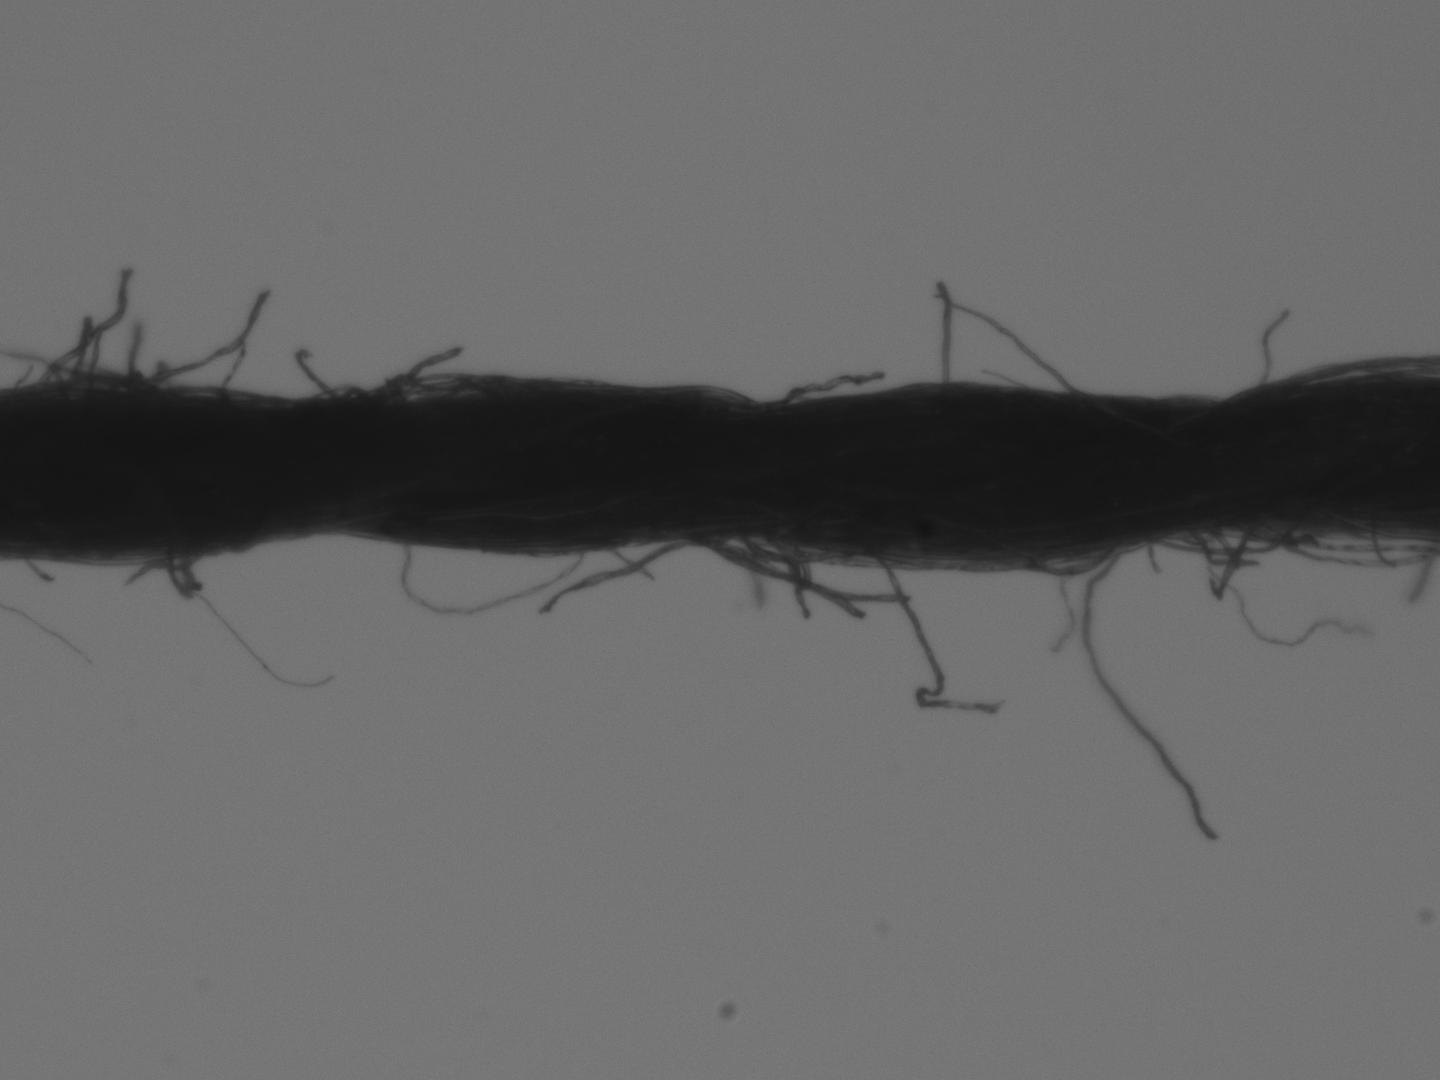loop_fiber: (400, 546, 587, 613), (1243, 522, 1433, 567), (1150, 514, 1293, 555), (735, 524, 850, 563), (36, 365, 155, 396), (1011, 541, 1112, 576), (371, 376, 489, 405), (167, 548, 197, 602)
protruding_fiber: (1079, 542, 1218, 842), (926, 281, 1066, 396), (31, 268, 133, 393), (539, 540, 685, 616), (764, 366, 884, 405), (1257, 306, 1296, 387), (938, 279, 956, 389), (18, 557, 56, 584)
